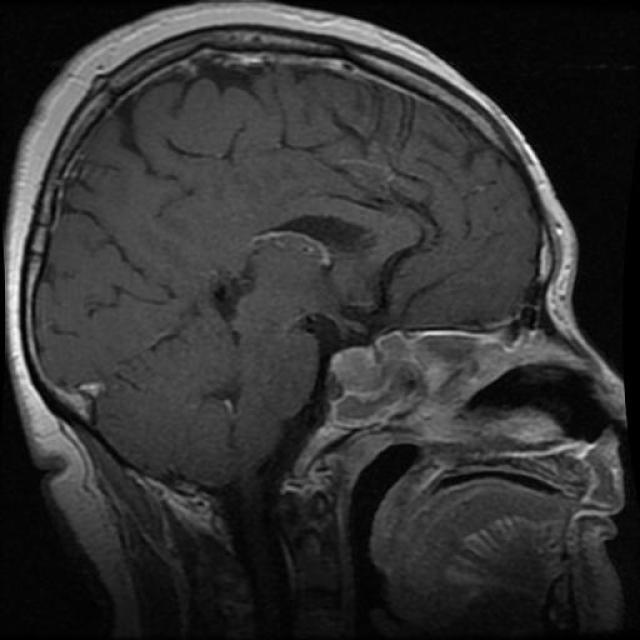pituitary: (307, 338, 403, 398)
